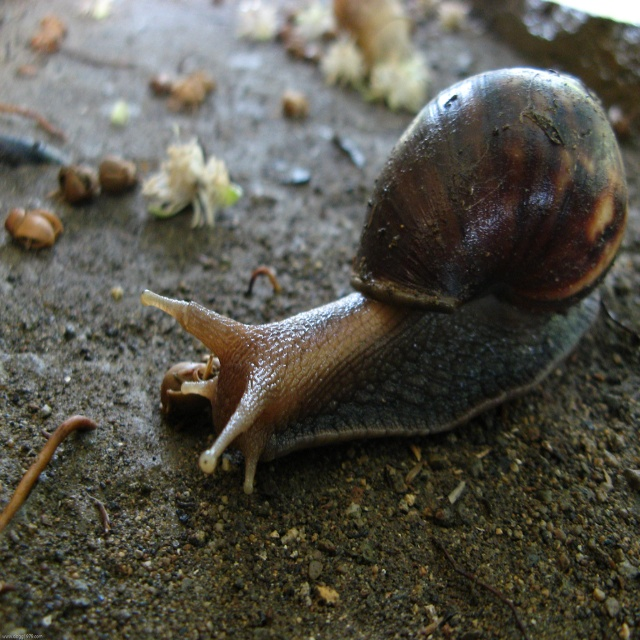Snail: (138, 61, 633, 500)
